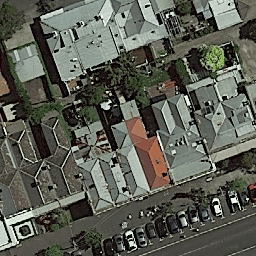car: (227, 190, 242, 212), (124, 230, 138, 251), (210, 196, 224, 217), (135, 227, 148, 249), (156, 217, 169, 238), (167, 213, 180, 234), (113, 233, 126, 253), (177, 210, 190, 229), (103, 238, 115, 256), (145, 222, 157, 239), (199, 206, 211, 222), (247, 183, 256, 204), (238, 190, 250, 205), (92, 240, 103, 256), (189, 209, 199, 224)
